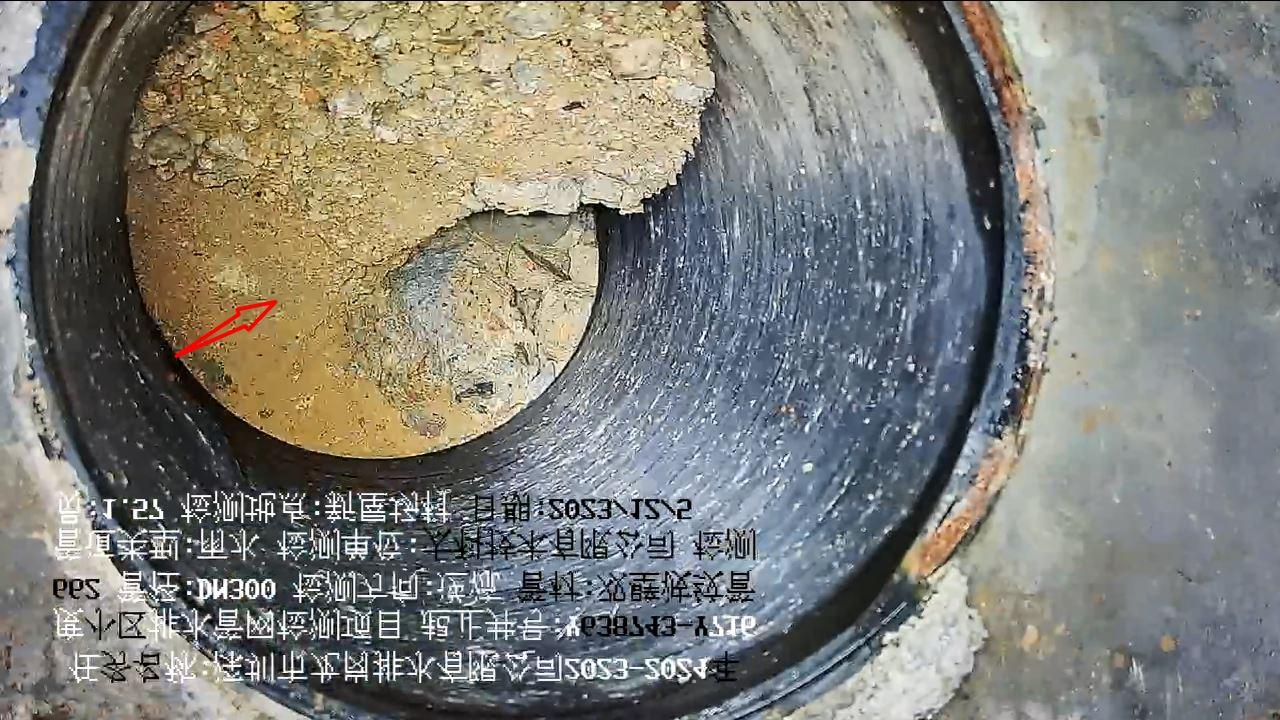CJ: (126, 4, 713, 457)
